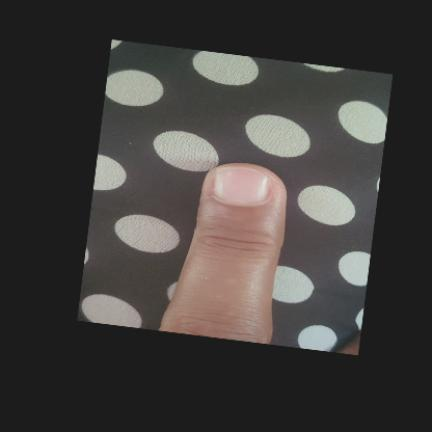Nail: (216, 167, 270, 203)
